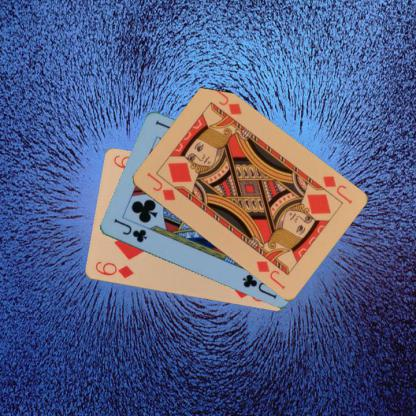6d: (92, 258, 134, 280)
Jc: (110, 216, 148, 244)
Jd: (144, 170, 177, 204), (320, 173, 353, 205)
